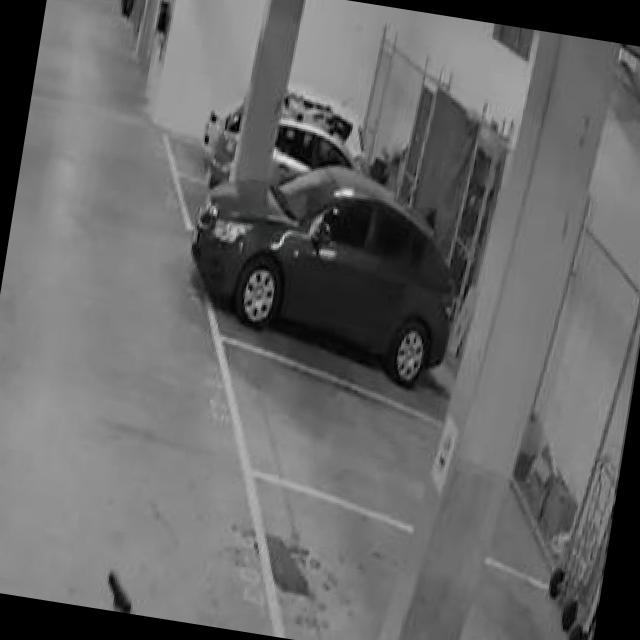Guns: (100, 562, 145, 615)
